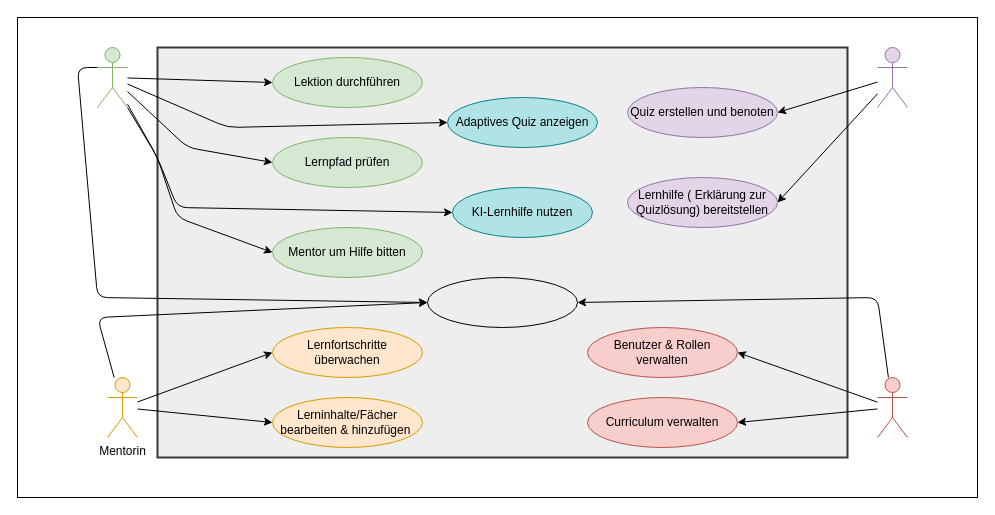
This 995x515 diagram has some shape labels left out. Here are the shapes that lost their labels. From the top down, the box of each, then its label:
(96, 46, 128, 108): Schülerin
(876, 46, 908, 108): KI-Service
(426, 276, 578, 328): Dashboard anzeigen
(876, 376, 908, 438): Admin
